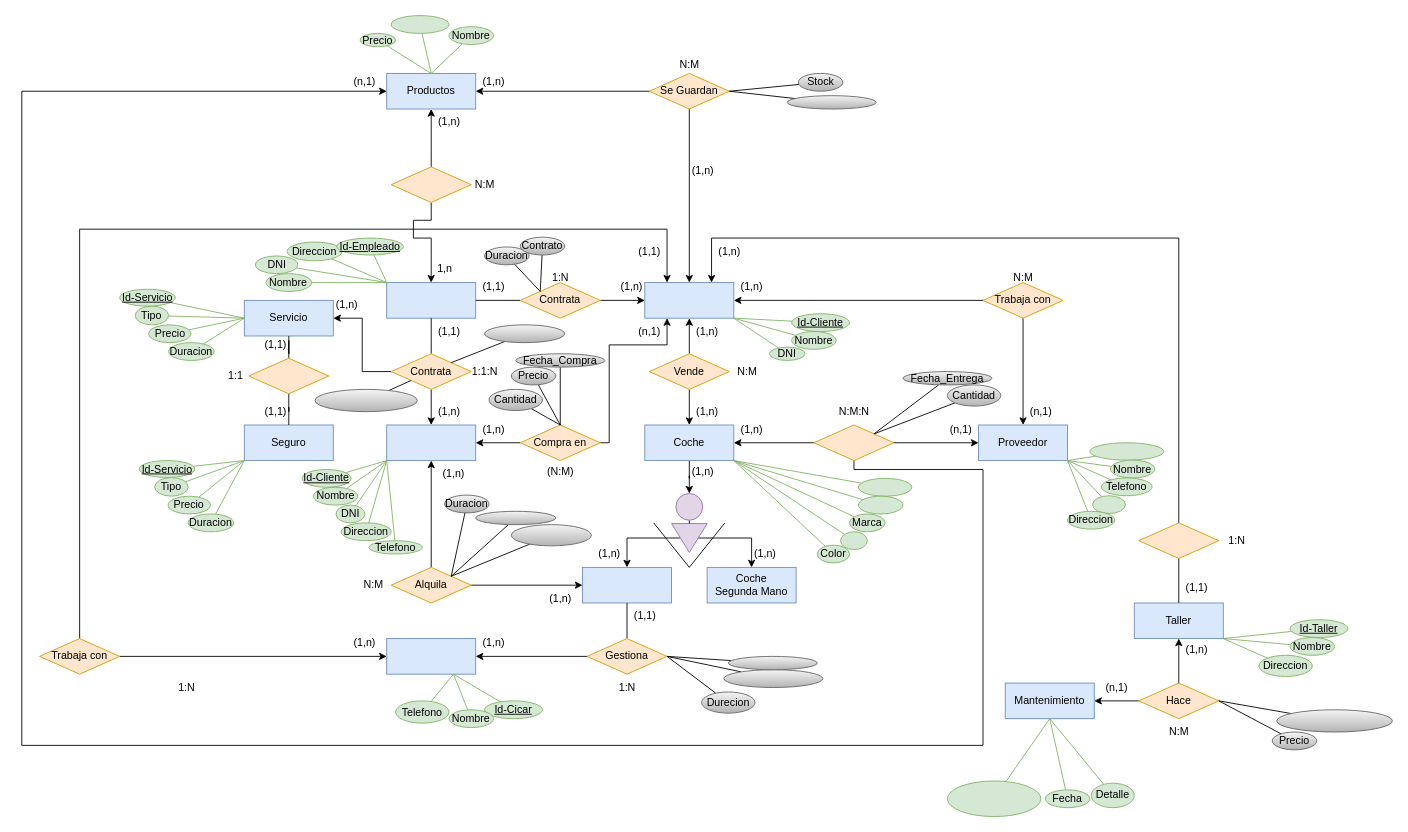
The diagram is 1408 pixels wide and 832 high, and some of its shapes have lost their labels. The centre of each missing label's shape, as x and y in pixels:
Año: the point at 853,540
Cantidad_Coches: the point at 773,678
Cicar: the point at 431,656
Cliente: the point at 431,442
Coche Alquiler: the point at 627,584
Contiene: the point at 288,375
Costo_Servicio: the point at 524,333
Email: the point at 1108,504
Empleado: the point at 431,300
Entrega: the point at 853,442
Fecha_Contrato: the point at 772,662
Fecha_Inicio: the point at 515,517
Fecha_Mantenimiento: the point at 1334,720
Fecha_Realizacion: the point at 365,400
Id-Coche: the point at 885,486
Id-Mantenimiento: the point at 994,798
Id-Producto: the point at 419,24
Id-Proveedor: the point at 1126,451
Modelo: the point at 880,504
Organiza: the point at 430,184
Overcame (Tienda): the point at 689,300
Precio_Alquiler: the point at 550,535
Precio_Unitario: the point at 831,102
Tiene: the point at 1178,540
